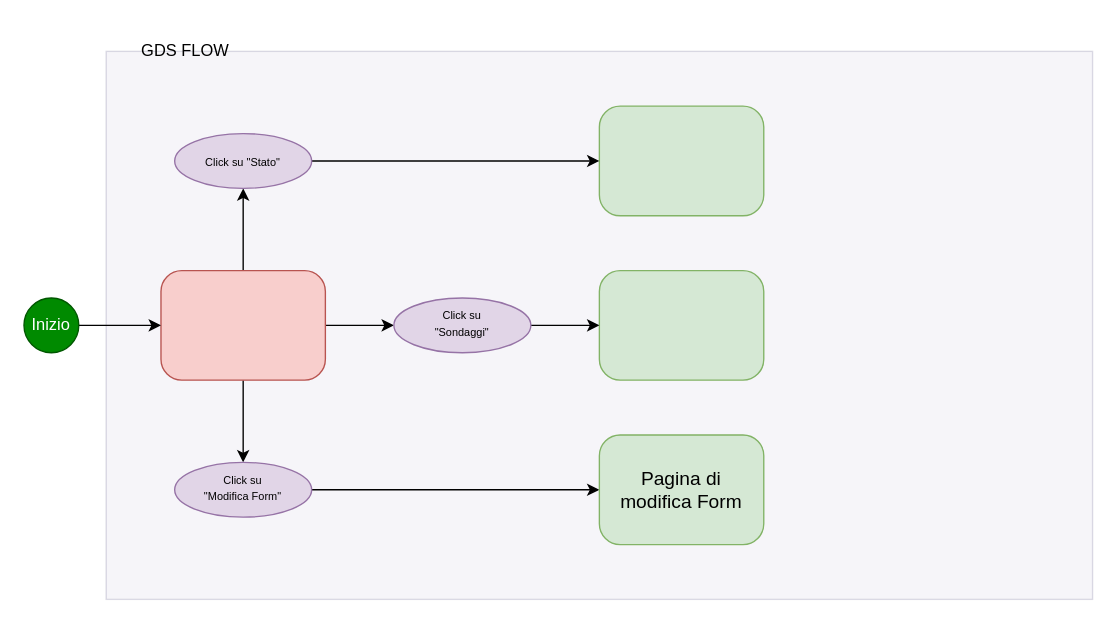
This 1117x623 diagram has some shape labels left out. Here are the shapes that lost their labels. From the top down, the centre of each, then its label:
At [681,160]: "Pagina delle Segnalazioni".
At [242,324]: "Pagina di Default".
At [681,324]: "Pagina dei Sondaggi".
